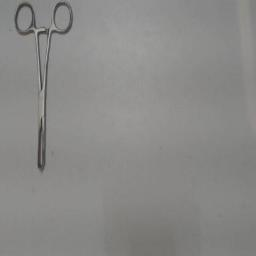Allis Tissue Forceps: (12, 0, 78, 182)
